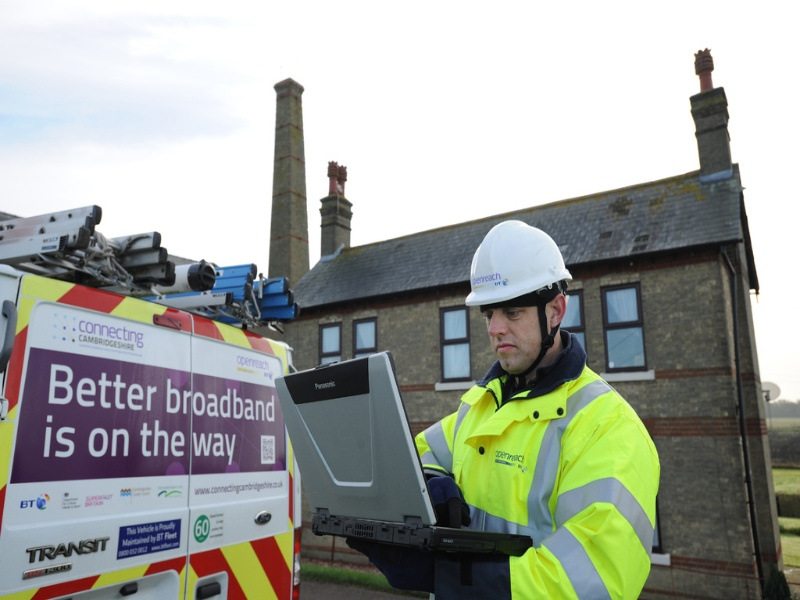Baret: (463, 219, 570, 305)
